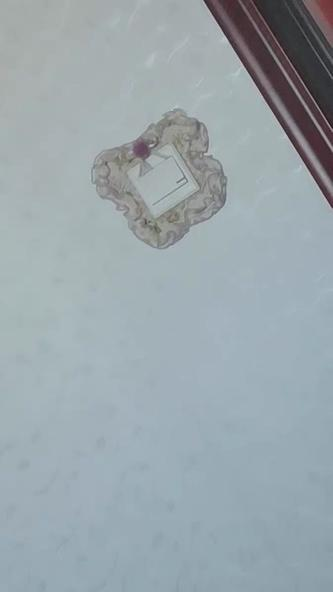switch: (136, 147, 188, 210)
